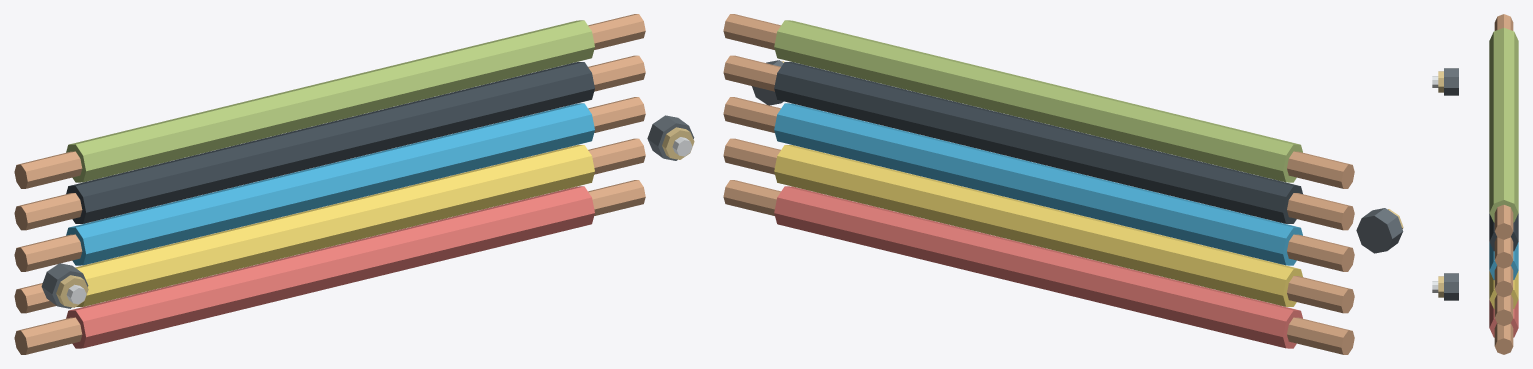
Rendered from cableSegment.glb.
3 views of the same model, side by side, from view 1: azimuth 30°, elevation 25°; view 2: azimuth 150°, elevation 25°; view 3: azimuth 270°, elevation 25° (orthographic). The views are drawn at different scales.
Visible parts, largest first — view 1: cableSegment-board; view 2: cableSegment-board; view 3: cableSegment-board.
Part boxes in pixels (box(x1,y1,x2,y2)): cableSegment-board: box(14, 14, 694, 354); cableSegment-board: box(723, 14, 1403, 354); cableSegment-board: box(1432, 14, 1518, 354).
Size of the model in its own units: 3.4 by 1.03 by 0.5698.
